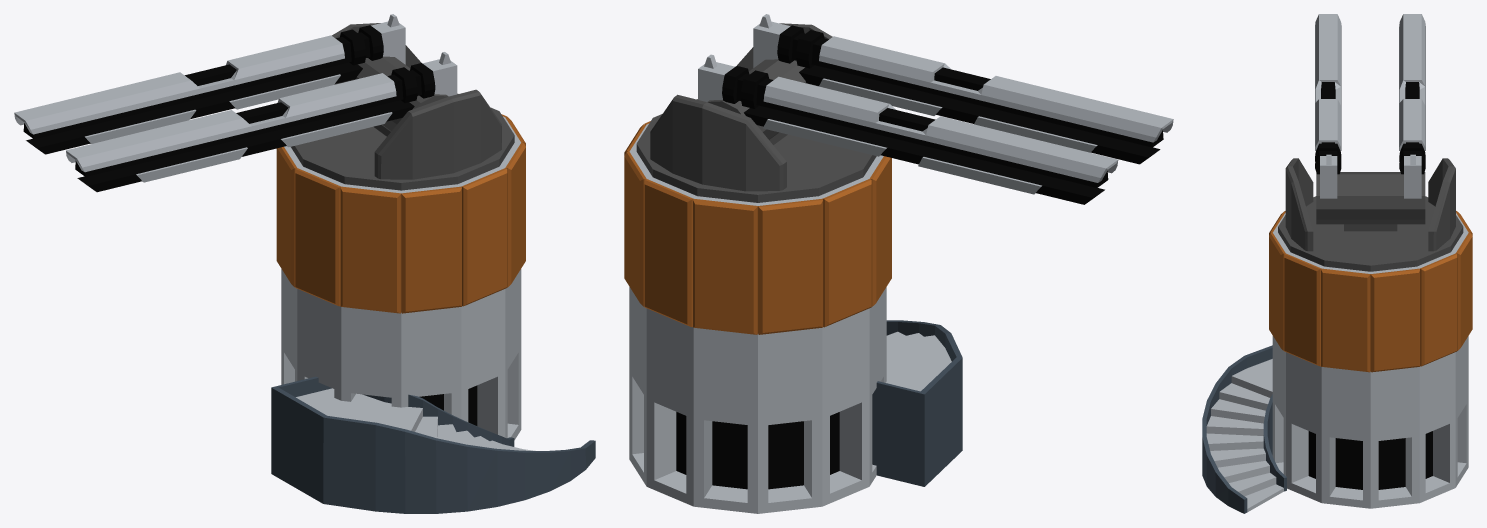
Rendered from laservatory_lvl2.fbx.
The picture shows the model from 3 angles, left to right: view 1: azimuth 30°, elevation 25°; view 2: azimuth 150°, elevation 25°; view 3: azimuth 270°, elevation 25°; orthographic projection. The views are drawn at different scales.
Visible parts, largest first — view 1: polySurface299; view 2: polySurface299; view 3: polySurface299.
Part boxes in pixels (x1=…): polySurface299: x1=14, y1=14, x2=595, y2=513; polySurface299: x1=624, y1=14, x2=1173, y2=513; polySurface299: x1=1202, y1=14, x2=1472, y2=513.
Bounding box in the file's own units: 1905 × 1507 × 1155.
